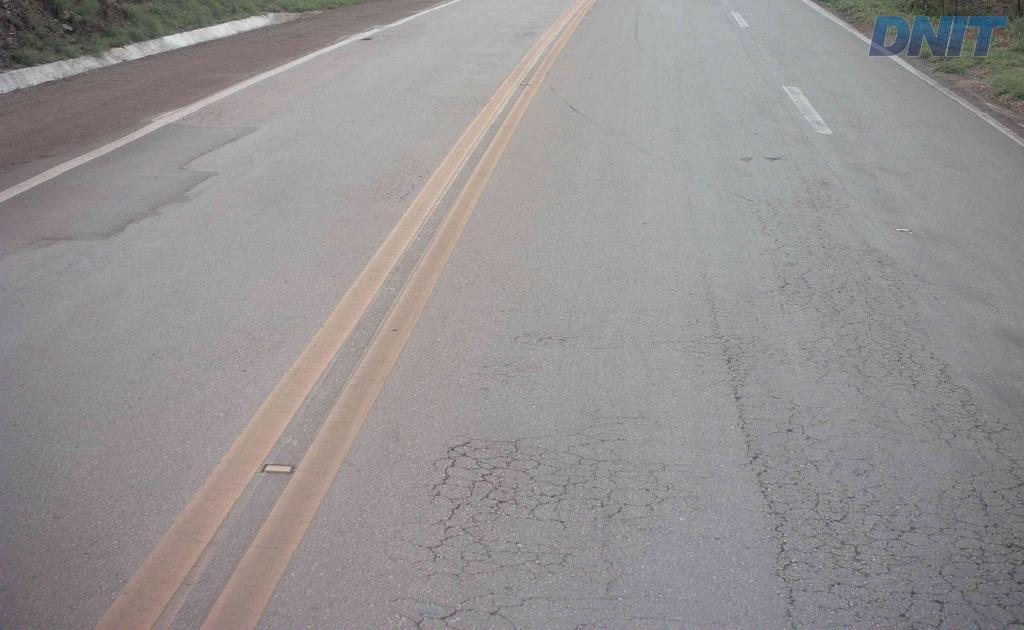crack: (959, 527, 1023, 629), (882, 584, 959, 629), (461, 465, 502, 501)
